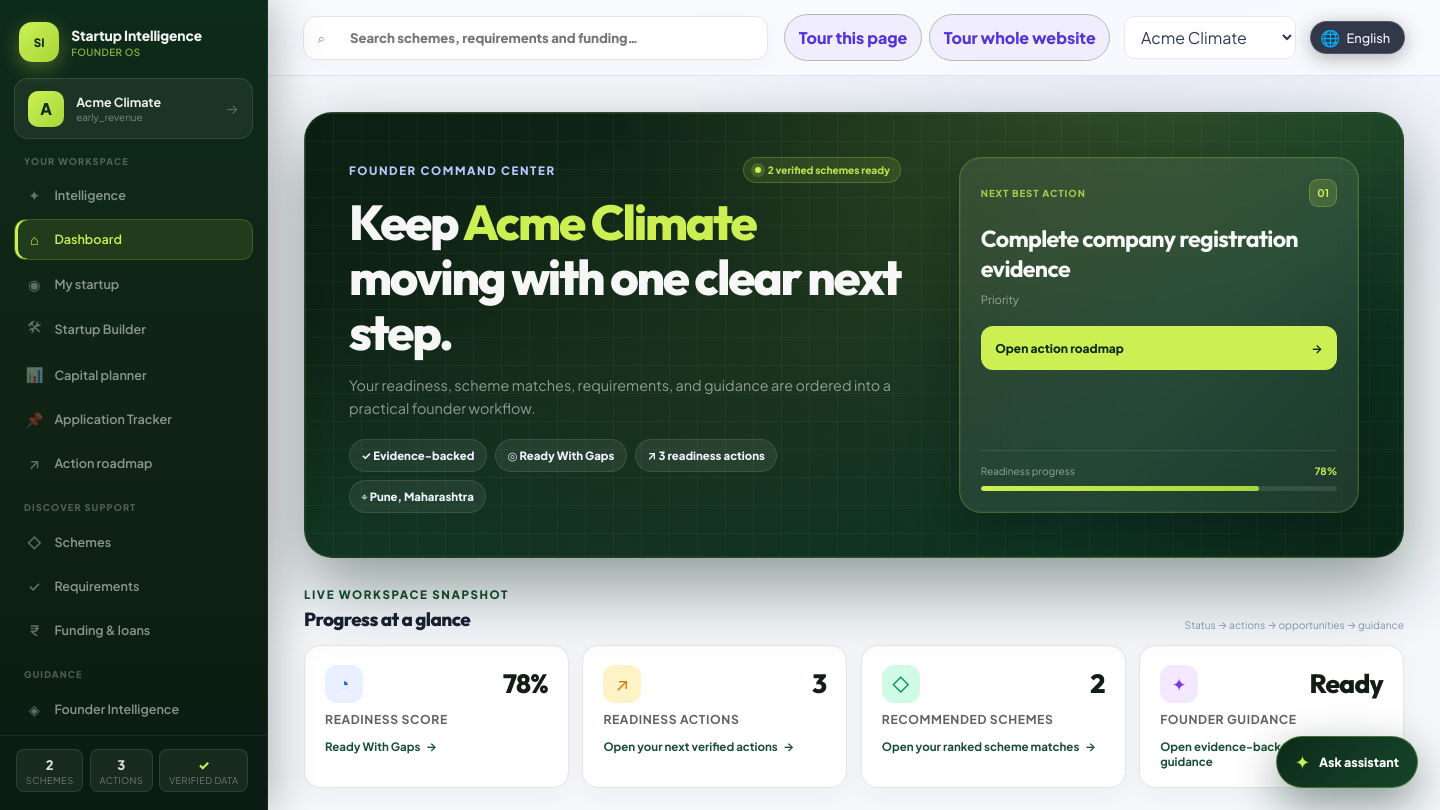
Test: functional user dashboard › opens the persisted site-wide founder assistant
Expected: the heading "Keep Acme Climate moving with one clear next step." is shown, left=349, top=195, right=901, bottom=360
Click the button with aria-label "Open founder assistant" at [1347, 762], box left=1276, top=736, right=1418, bottom=788
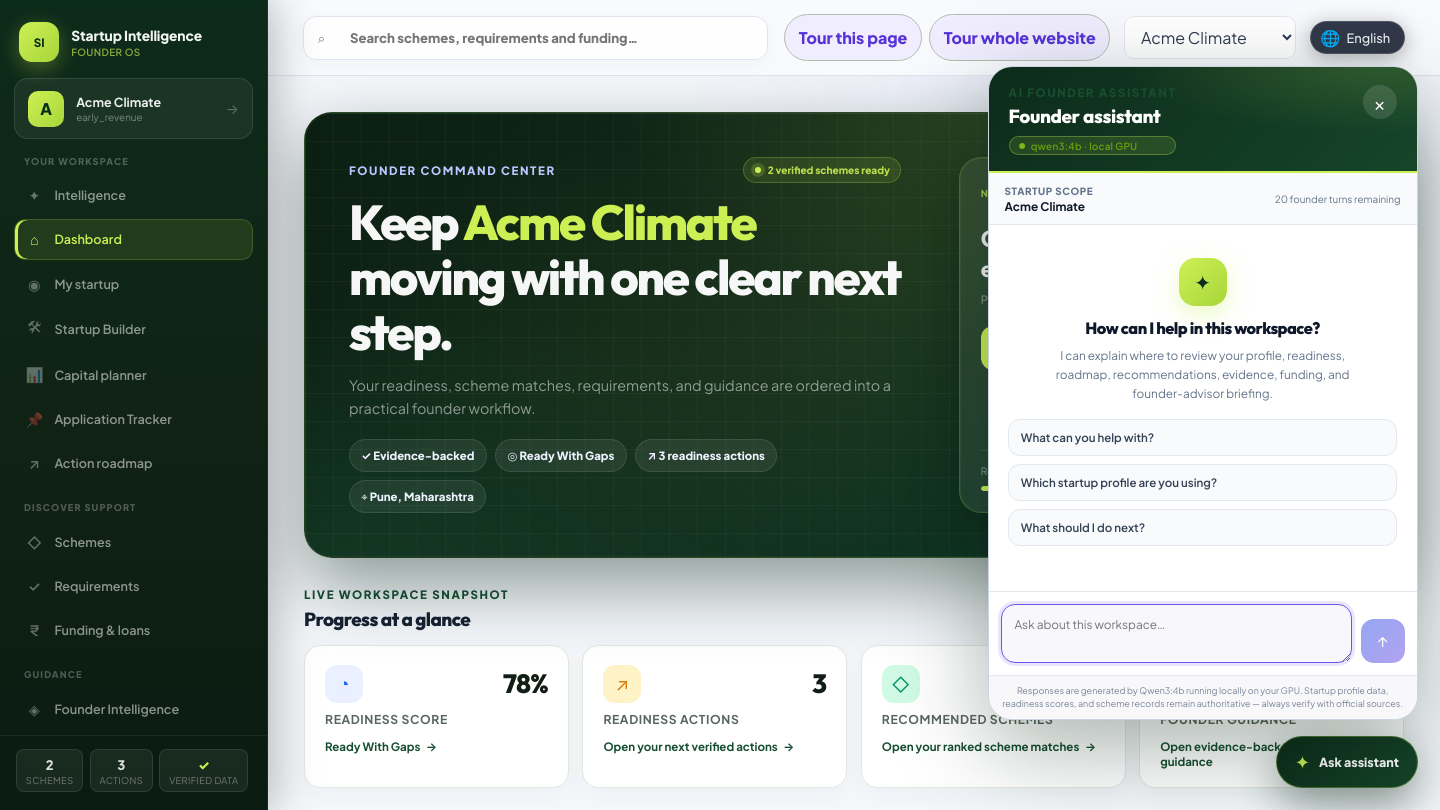
Expected: the dialog "FOUNDER ASSISTANT" is shown, left=988, top=66, right=1418, bottom=720
Click the button named "Close founder assistant" at [1380, 103], box left=1363, top=86, right=1397, bottom=120
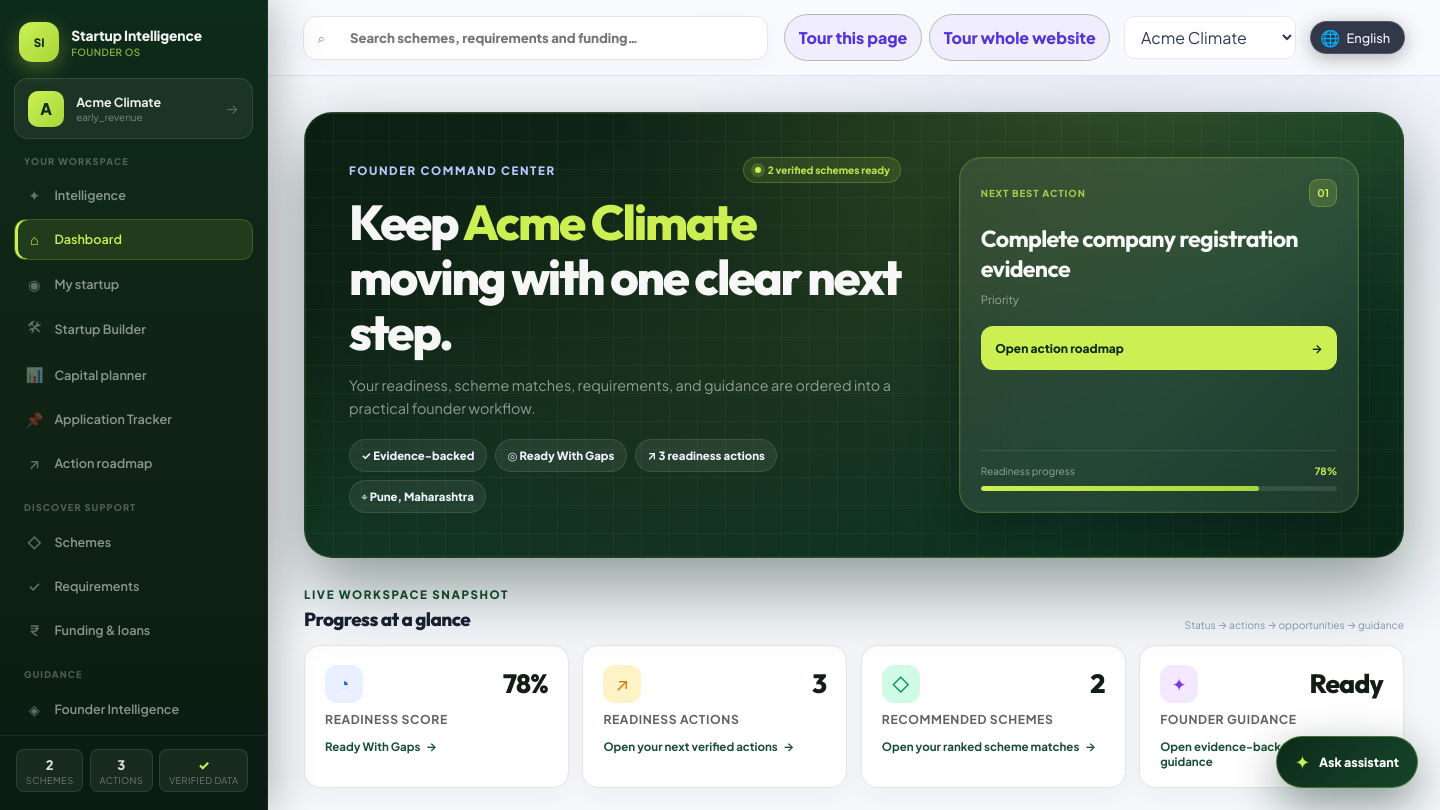
Expected: the text "FOUNDER ASSISTANT" is gone
